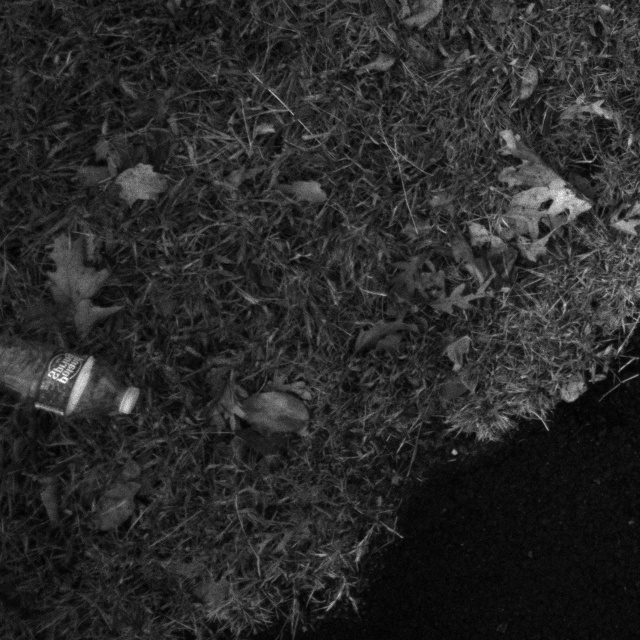bottle: (0, 303, 151, 436)
